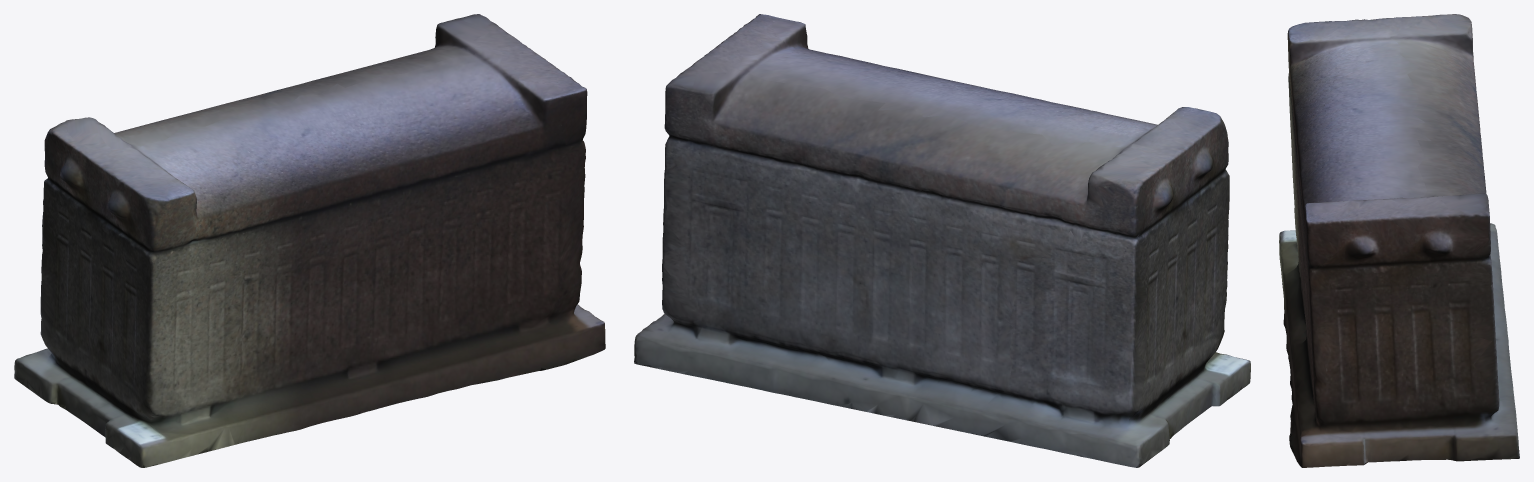
File: sculpt.obj
The picture shows the model from 3 angles, left to right: view 1: azimuth 30°, elevation 25°; view 2: azimuth 150°, elevation 25°; view 3: azimuth 270°, elevation 25°; orthographic projection. The views are drawn at different scales.
Size of the model in its own units: 19 by 10.08 by 8.93.
Materials: 2 (2 with a texture image).
